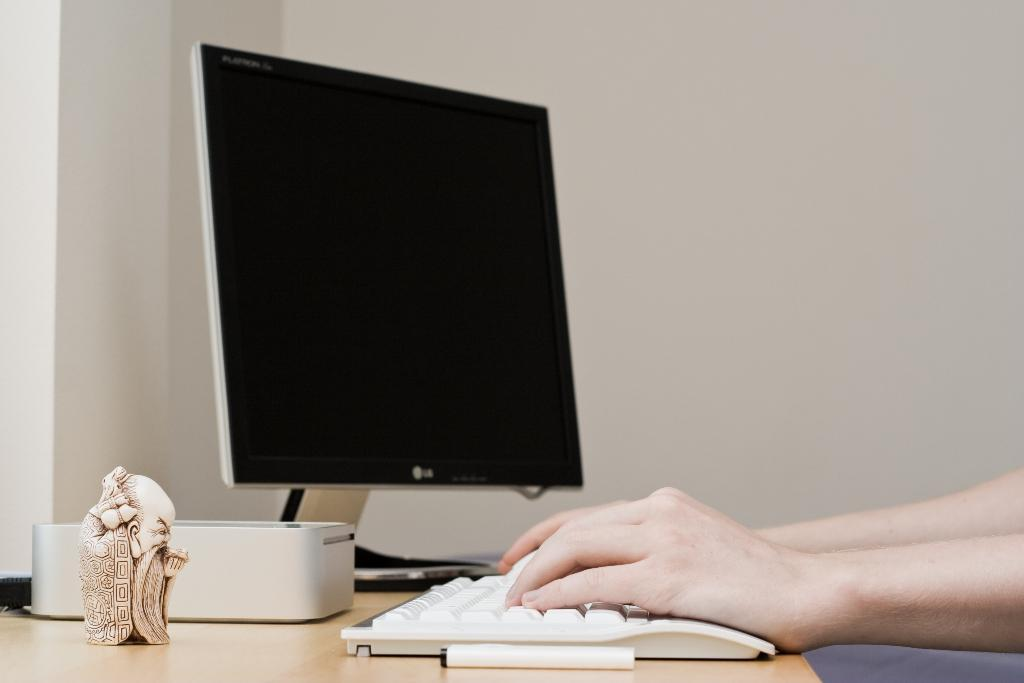Computer-keyboard: (341, 573, 778, 656)
Computer-monitor: (183, 63, 599, 549)
